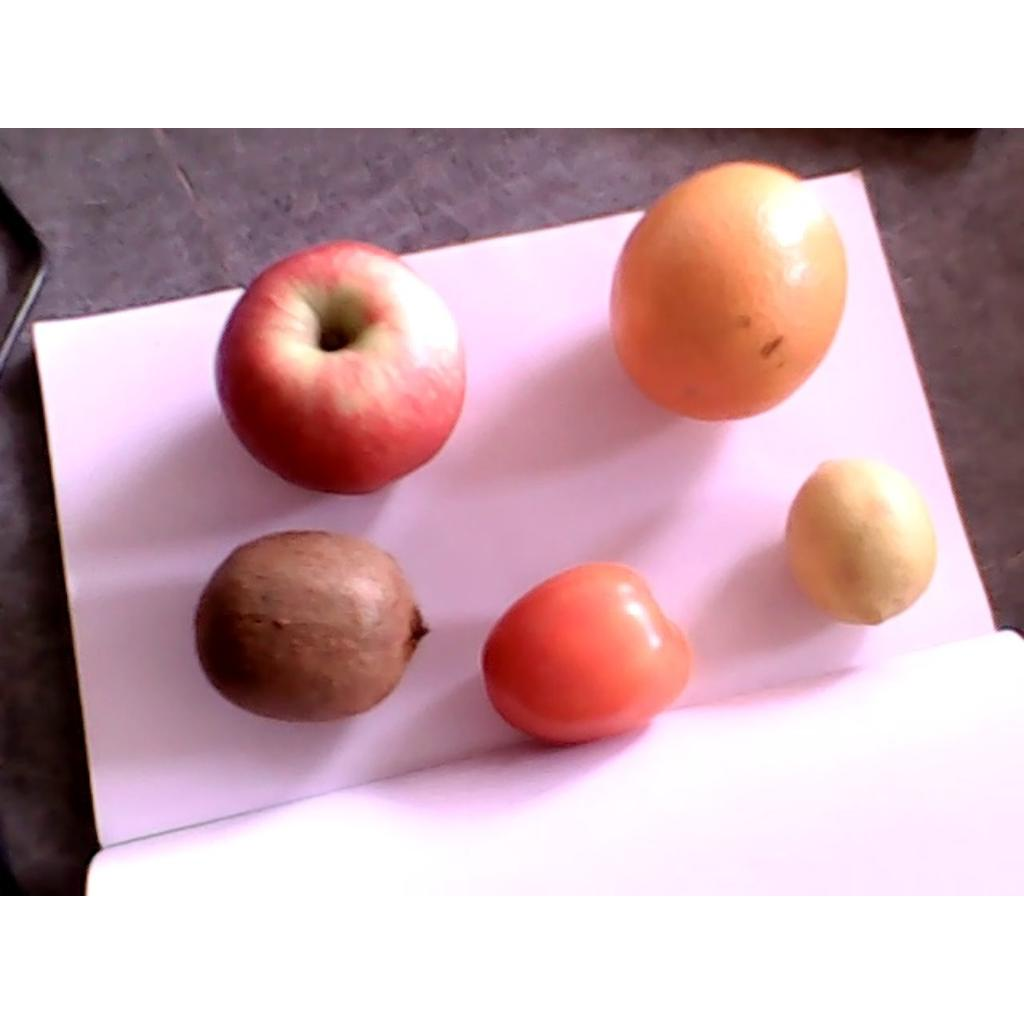apple: (216, 240, 467, 496)
kiwi: (193, 531, 429, 723)
lemon: (784, 460, 934, 626)
orange: (610, 159, 847, 421)
tomato: (483, 562, 691, 747)
